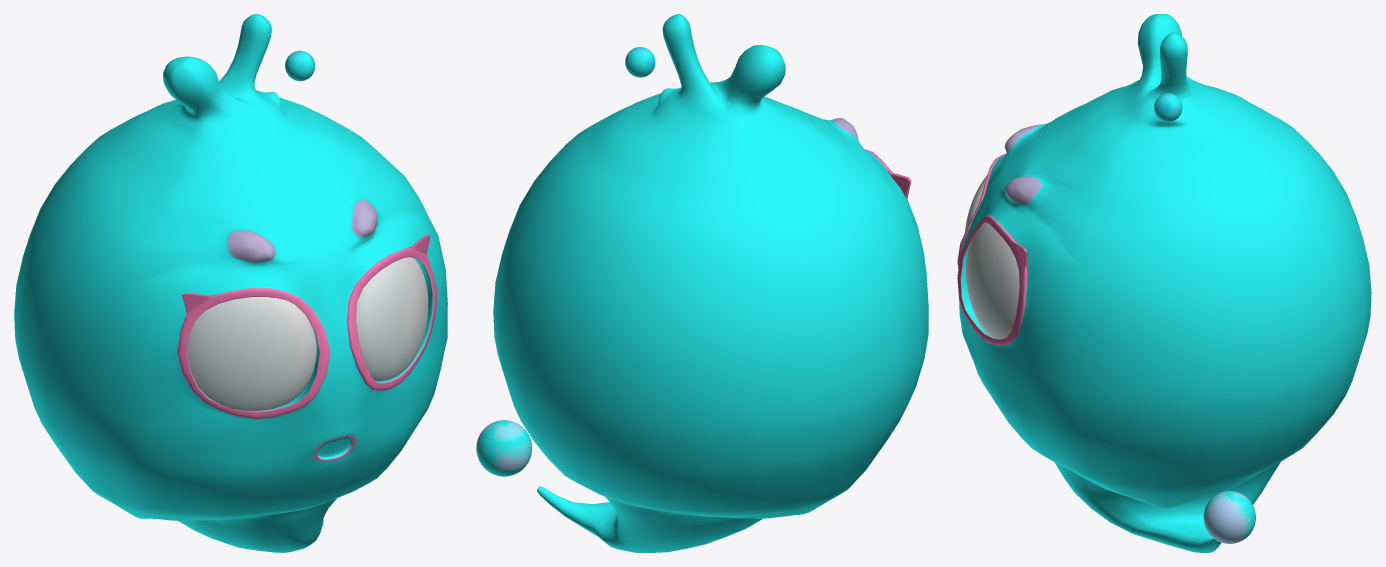
Rendered from Ghost.fbx.
The picture shows the model from 3 angles, left to right: view 1: azimuth 30°, elevation 25°; view 2: azimuth 150°, elevation 25°; view 3: azimuth 270°, elevation 25°; orthographic projection. The views are drawn at different scales.
Visible parts, largest first — view 1: pSphere7; view 2: pSphere7; view 3: pSphere7.
Part boxes in pixels (left/top/right/bottom): pSphere7: left=14, top=14, right=447, bottom=552; pSphere7: left=476, top=14, right=928, bottom=552; pSphere7: left=957, top=14, right=1371, bottom=552.
Size of the model in its own units: 2.8 by 3.67 by 2.78.
Materials: 2 (1 with a texture image).
